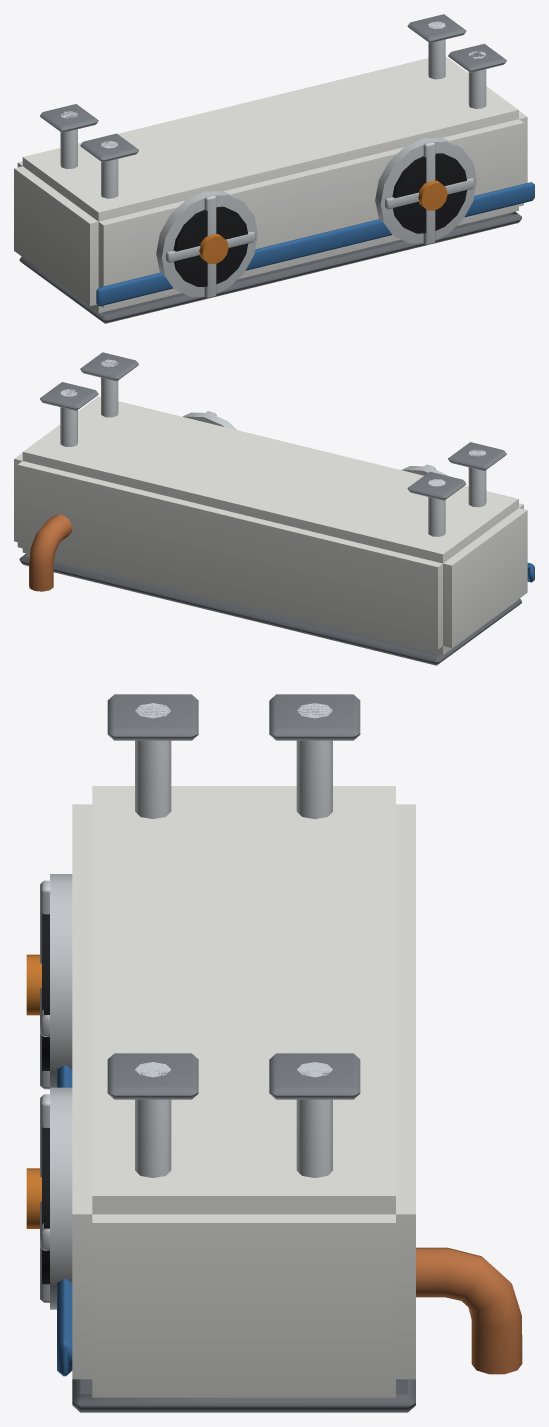
Rendered from SM_WalkIn_Evaporator_01.glb.
3 renders of one model, top to bottom at view 1: azimuth 30°, elevation 25°; view 2: azimuth 150°, elevation 25°; view 3: azimuth 270°, elevation 25°, orthographic. The views are drawn at different scales.
Visible parts, largest first — view 1: SM_WalkIn_Evaporator_01; view 2: SM_WalkIn_Evaporator_01; view 3: SM_WalkIn_Evaporator_01.
Boxes of the visible parts, x1=… form: SM_WalkIn_Evaporator_01: x1=14, y1=14, x2=534, y2=323; SM_WalkIn_Evaporator_01: x1=14, y1=352, x2=534, y2=665; SM_WalkIn_Evaporator_01: x1=26, y1=694, x2=522, y2=1412.
Size of the model in its own units: 1 by 0.35 by 0.49.
Materials: 1 (1 with a texture image).
